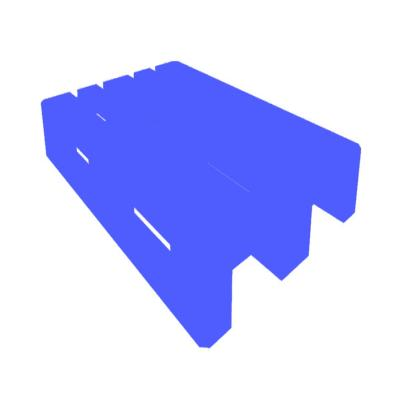BoxFace: (38, 56, 363, 353)
